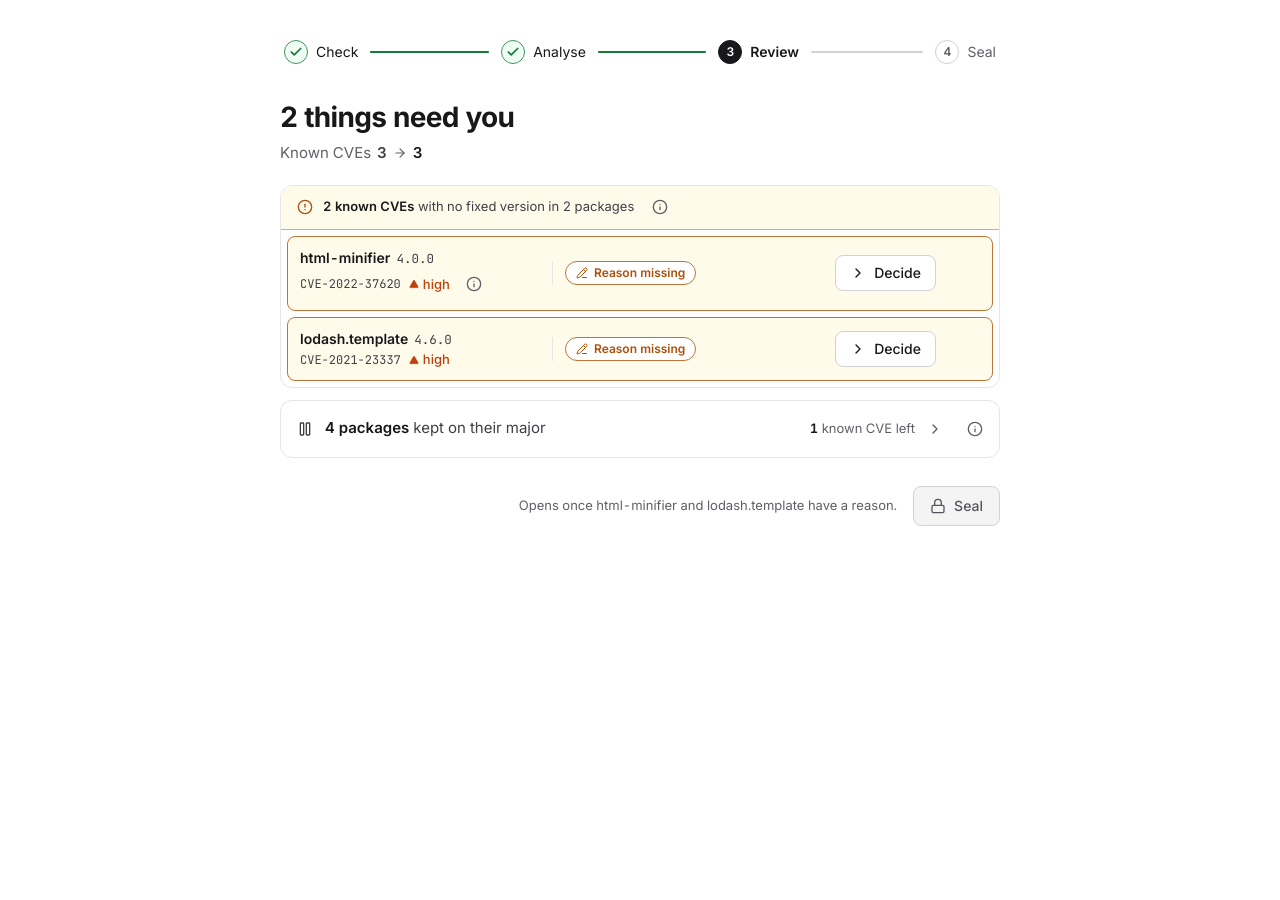
Scenario: the panels on the review › records a carried reason into its row
The image size is (1280, 900).
Click the button with aria-label "Decide html-minifier": (886, 273) [835, 255, 936, 291]
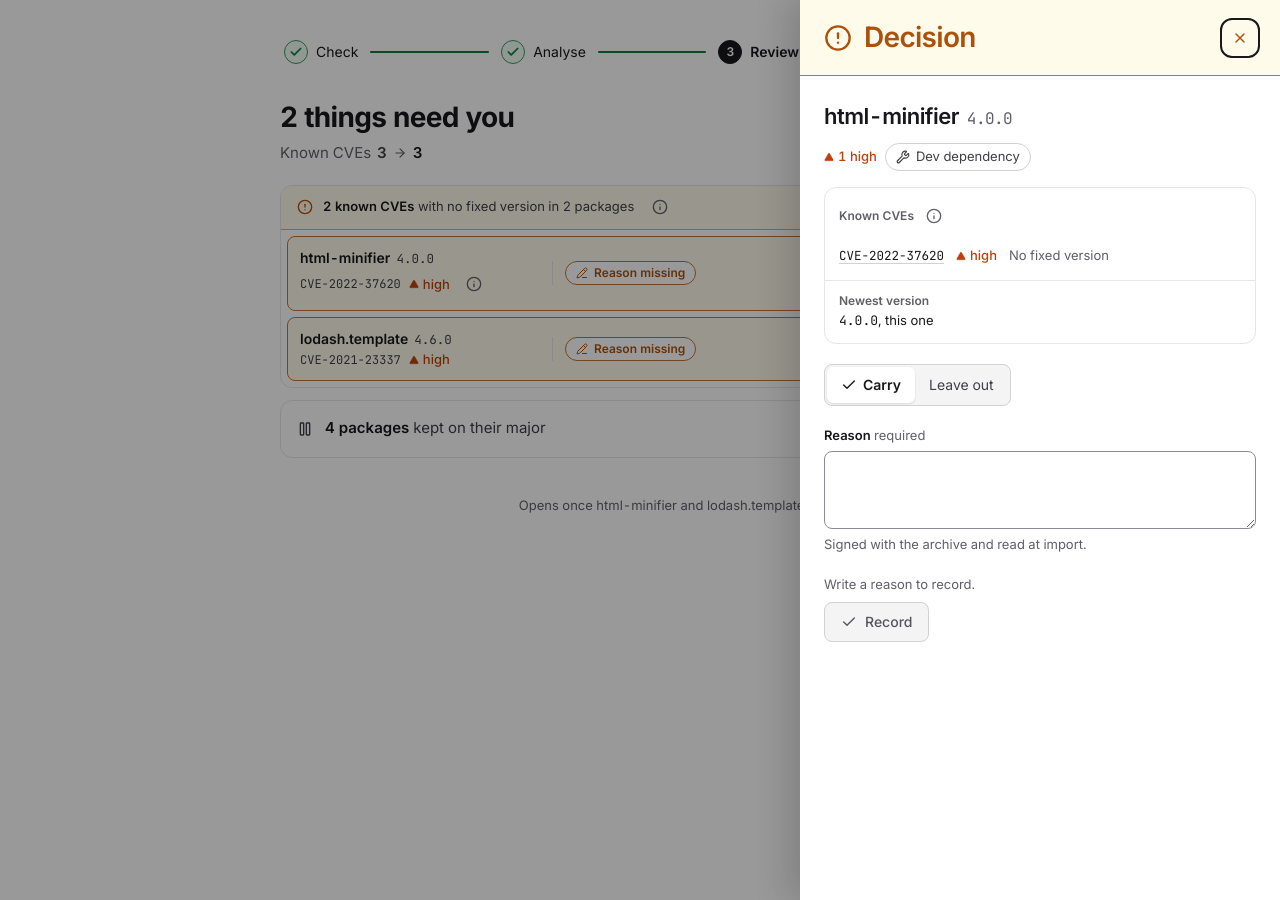
Result: the text "Dev dependency" is shown at [885, 143, 1031, 171]
In the text box labelled "Reason required": (1040, 490) [824, 451, 1256, 529], type "Dev dependency, runs at build time on our own HTML"
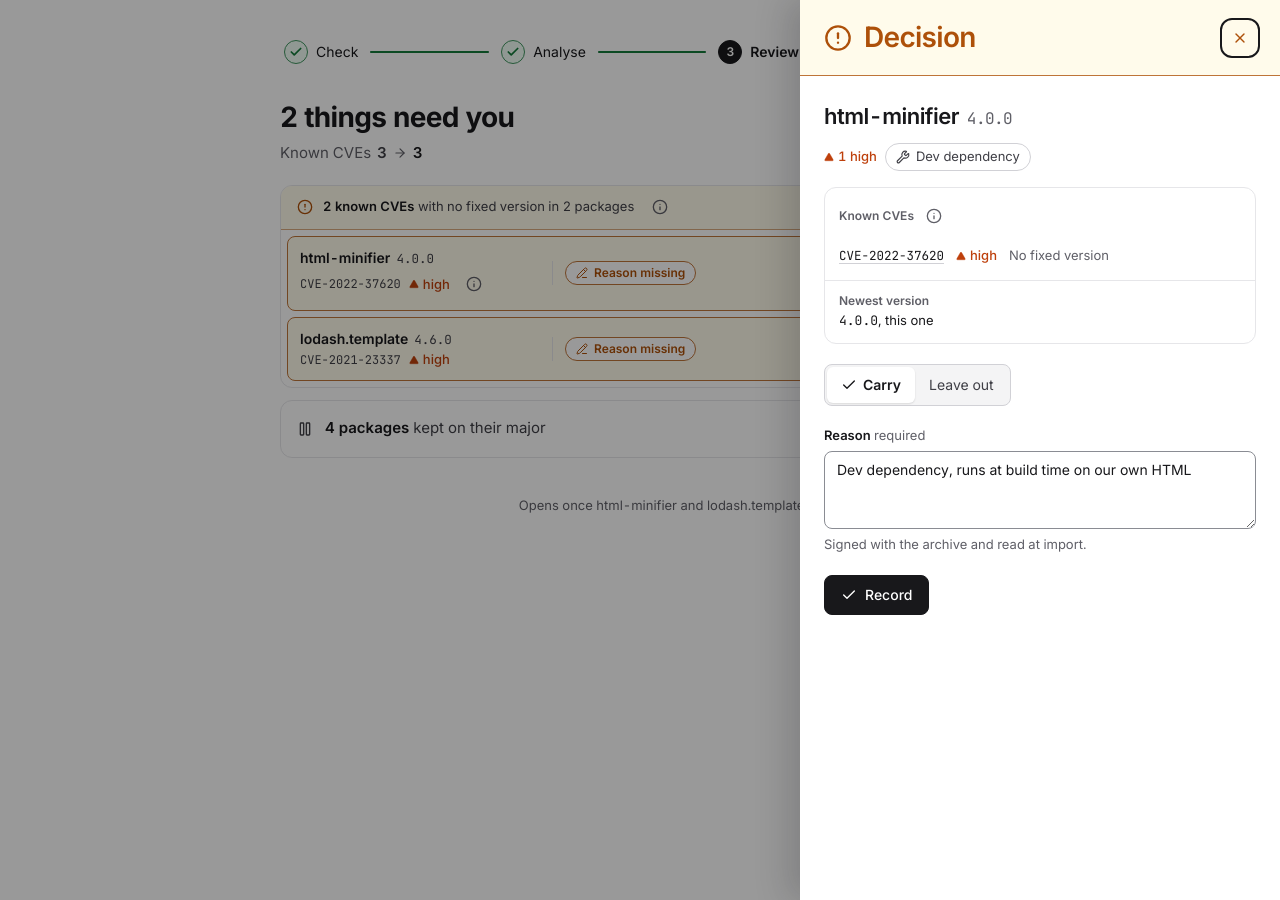
Click the button "Record": (877, 594) [824, 574, 930, 614]
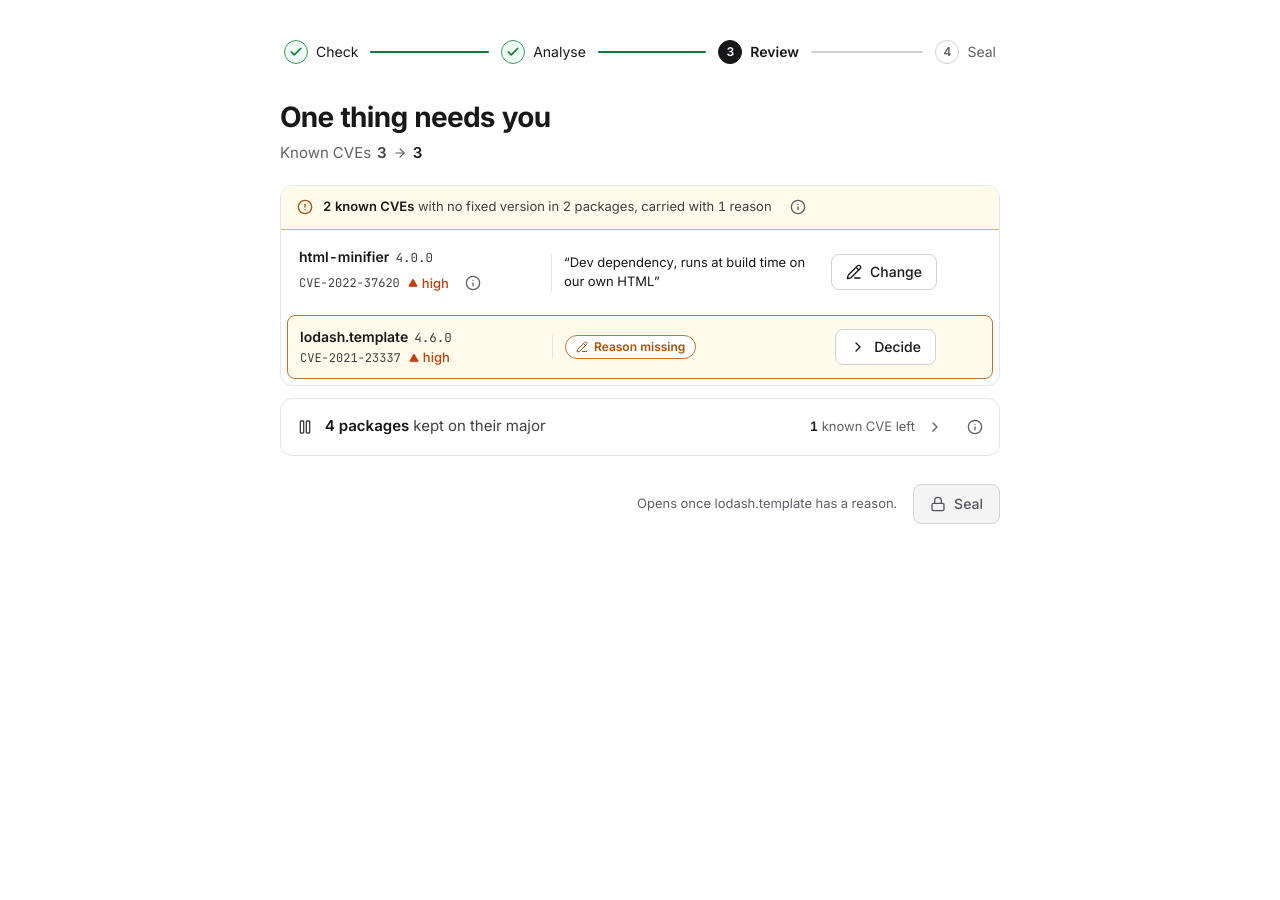
Result: the dialog is gone
Result: the text "“Dev dependency, runs at build time on our own HTML”" is shown at [564, 253, 819, 292]
